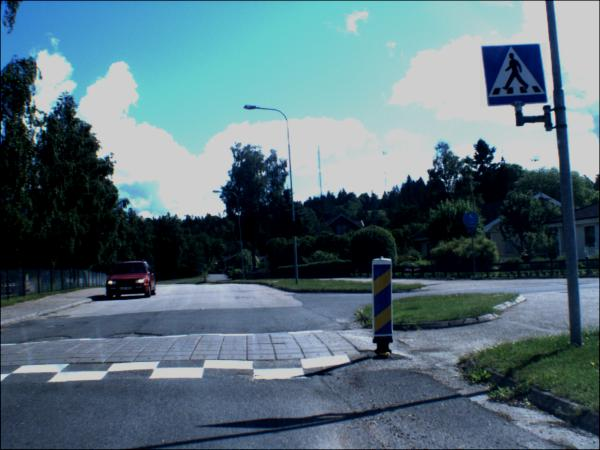NO_PARKING: (288, 222, 304, 238)
PEDESTRIAN_CROSSING: (481, 44, 549, 109)
